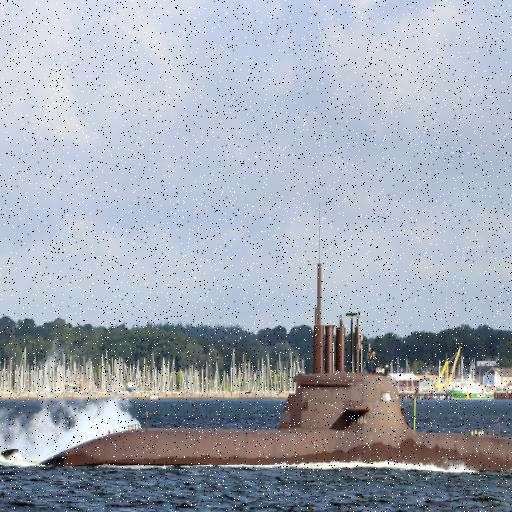submarine: (32, 245, 512, 475)
